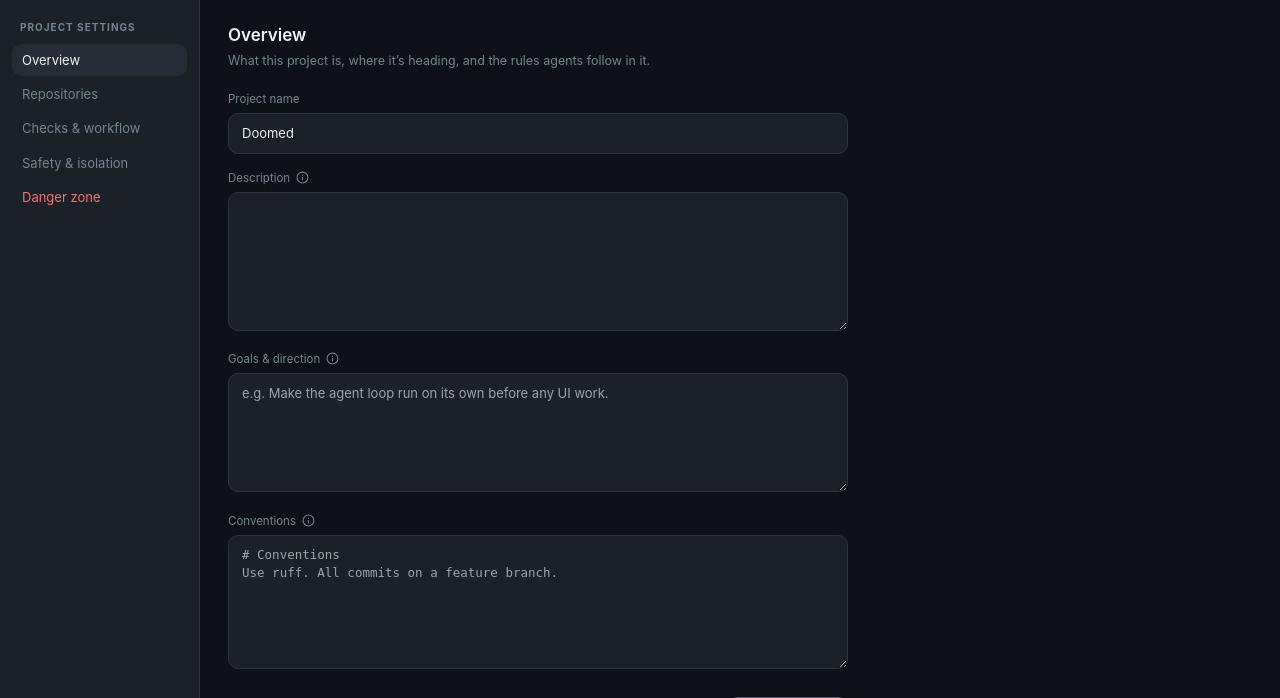
ProjectSettings — delete (danger zone) › cancelling the dialog deletes nothing
Click the button "Danger zone" at (61, 197), box [22,189,100,205]
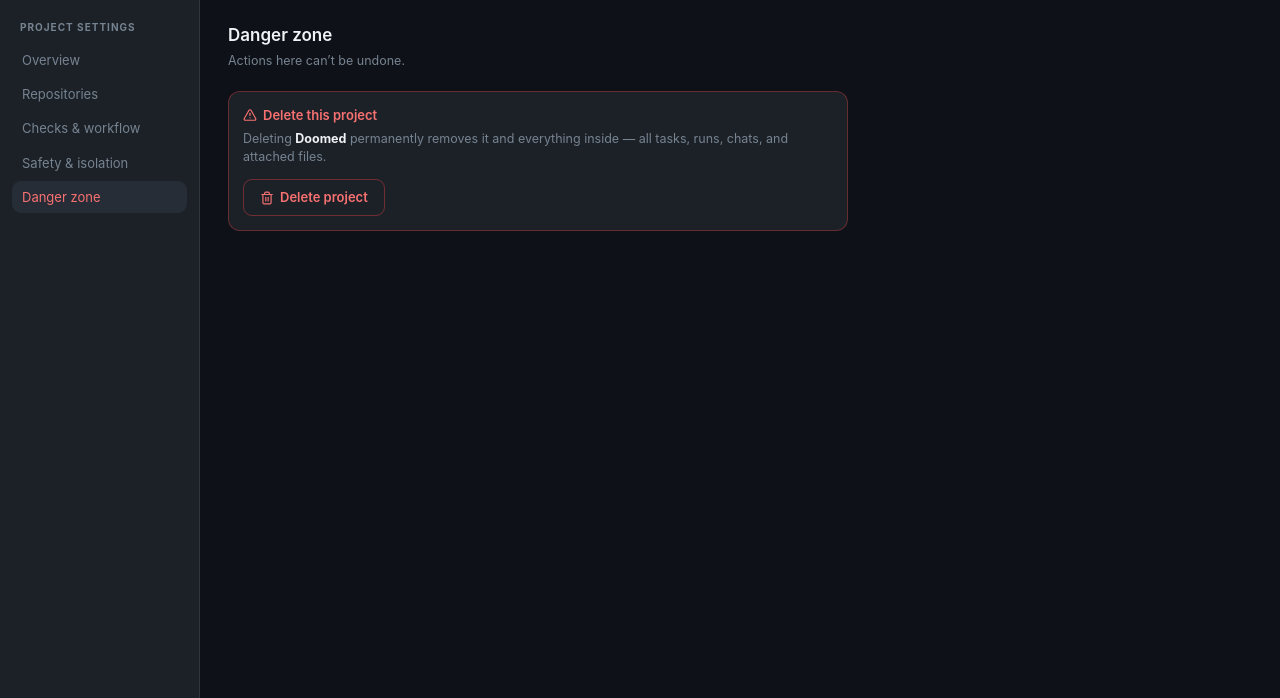
Click the button "Delete project" at (314, 198), box [243,180,385,216]
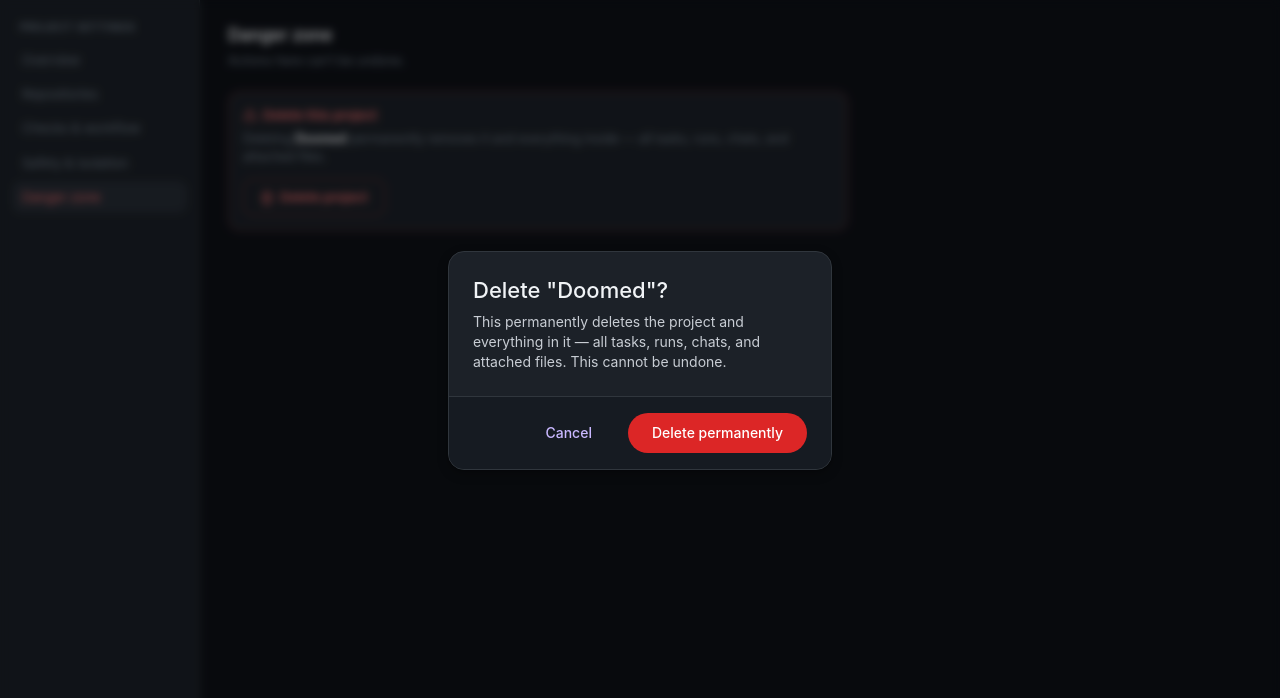
Click the button "Cancel" at (569, 432), box [522,412,616,452]
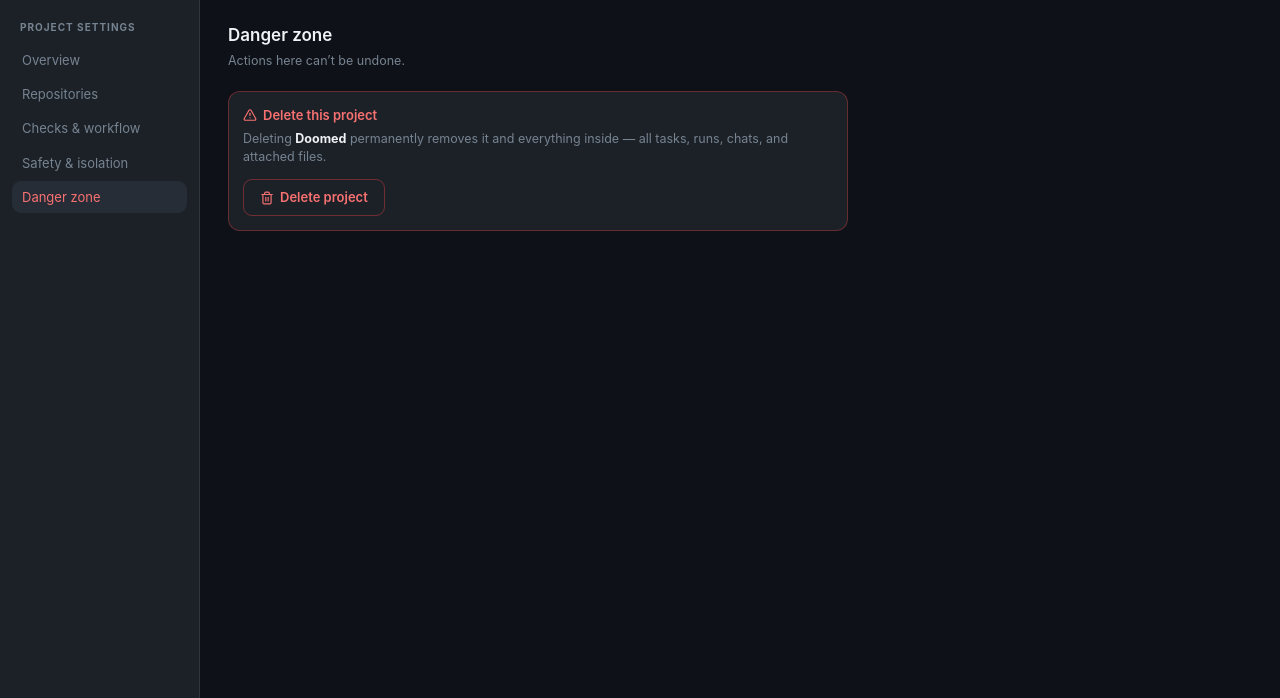
Check: the text "permanently deletes the project" is gone
